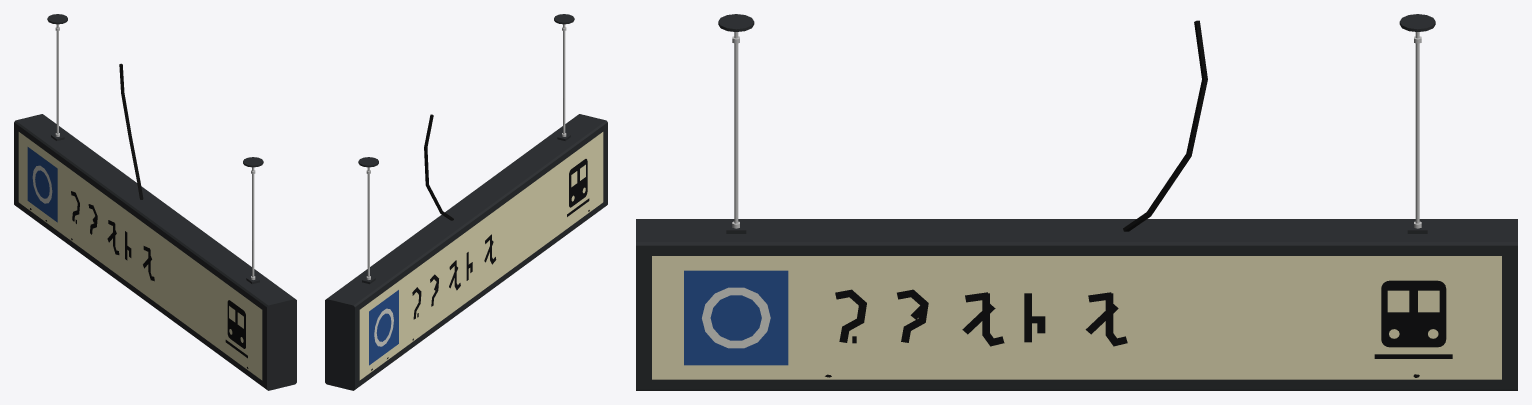
The model's file is sign_903_b.glb.
The picture shows the model from 3 angles, left to right: view 1: azimuth 30°, elevation 25°; view 2: azimuth 150°, elevation 25°; view 3: azimuth 270°, elevation 25°; orthographic projection. The views are drawn at different scales.
Parts seen in each view (by area): view 1: licht-1, gehaeuse, linie-1, wagen-1_kasten, kabel, stange-1, stange1; view 2: licht-1, gehaeuse, linie-1, wagen-1_kasten, kabel, stange-1, stange1; view 3: licht1, gehaeuse, linie1, wagen1_kasten, kabel, stange-1, stange1.
Boxes of the visible parts, left/top/right/bottom form: licht-1: left=18, top=132, right=262, bottom=380; gehaeuse: left=14, top=114, right=296, bottom=390; linie-1: left=27, top=147, right=57, bottom=222; wagen-1_kasten: left=227, top=300, right=245, bottom=348; kabel: left=119, top=63, right=143, bottom=199; stange-1: left=252, top=167, right=254, bottom=277; stange1: left=56, top=24, right=58, bottom=134; licht-1: left=359, top=132, right=603, bottom=380; gehaeuse: left=325, top=114, right=607, bottom=390; linie-1: left=369, top=290, right=398, bottom=365; wagen-1_kasten: left=569, top=159, right=587, bottom=207; kabel: left=424, top=114, right=453, bottom=220; stange-1: left=563, top=24, right=565, bottom=134; stange1: left=367, top=167, right=369, bottom=277; licht1: left=652, top=256, right=1501, bottom=379; gehaeuse: left=636, top=219, right=1517, bottom=390; linie1: left=684, top=270, right=788, bottom=365; wagen1_kasten: left=1381, top=280, right=1446, bottom=347; kabel: left=1123, top=20, right=1207, bottom=231; stange-1: left=734, top=32, right=738, bottom=223; stange1: left=1415, top=32, right=1419, bottom=223.
Size of the model in its own units: 0.1568 by 0.9865 by 2.2.
